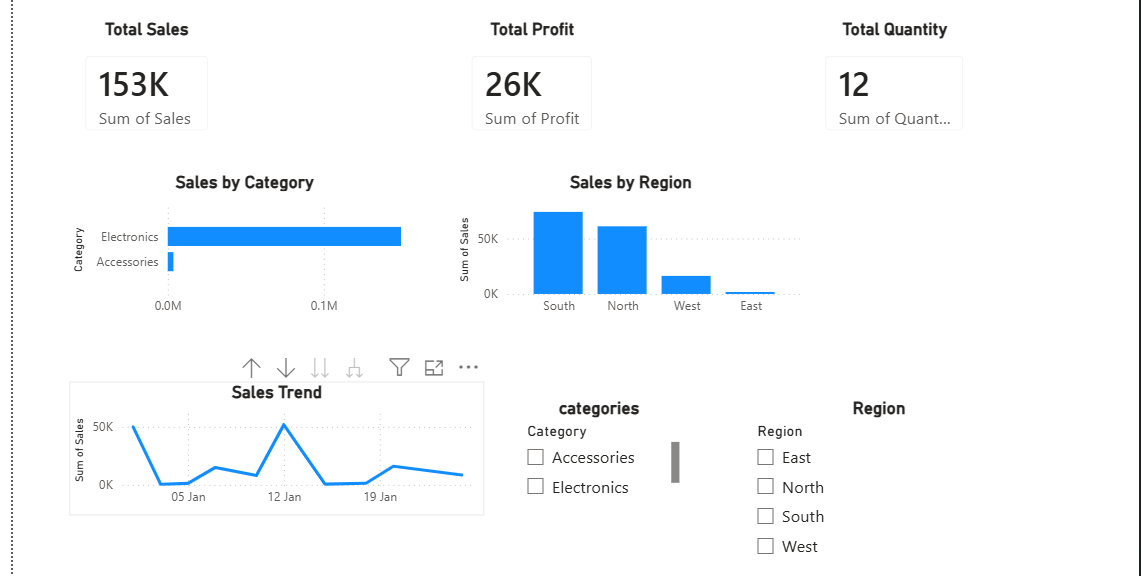

What the dashboard file says about the page in this screenshot:
{"tool":"powerbi","page":{"name":"Page 1","canvas":[1280,720],"ordinal":0},"visuals":[{"type":"cardVisual","title":"Total Sales","fields":{"Data":["Sum(sales_data.Sales)"]},"box":[54.3,38.6,154.3,127.1],"z":0},{"type":"cardVisual","title":"Total Profit","fields":{"Data":["Sum(sales_data.Profit)"]},"box":[307.9,38.6,153.6,127.1],"z":1000},{"type":"cardVisual","title":"Total Quantity","fields":{"Data":["Sum(sales_data.Quantity)"]},"box":[509.3,38.6,169.3,127.1],"z":2000},{"type":"clusteredBarChart","title":"Sales by Category","fields":{"Y":["Sum(sales_data.Sales)"],"Category":["sales_data.Category"]},"box":[54.3,187.9,345.7,150],"z":3000},{"type":"clusteredColumnChart","title":"Sales by Region","fields":{"Category":["sales_data.Region"],"Y":["Sum(sales_data.Sales)"]},"box":[432.1,187.9,345.7,150],"z":4000},{"type":"lineChart","title":"Sales Trend","fields":{"Y":["Sum(sales_data.Sales)"],"Category":["sales_data.Date.Variation.Date Hierarchy.Year","sales_data.Date.Variation.Date Hierarchy.Quarter","sales_data.Date.Variation.Date Hierarchy.Month","sales_data.Date.Variation.Date Hierarchy.Day"]},"box":[55,393.8,406.2,131.2],"z":5000},{"type":"slicer","title":"categories","fields":{"Values":["sales_data.Category"]},"box":[490,410,166.2,100],"z":5001},{"type":"slicer","title":"Region","fields":{"Values":["sales_data.Region"]},"box":[715,410,263.8,192.5],"z":5002}]}

Visuals, with their boxes on the page's 1280x720 design canvas (x1, y1, x2, y2). These are canvas units, not pixel positions in the 1141x576 screenshot, which may show the page scaled, cropped or inside an application window:
"Total Sales" cardVisual: x1=54 y1=39 x2=209 y2=166
"Total Profit" cardVisual: x1=308 y1=39 x2=462 y2=166
"Total Quantity" cardVisual: x1=509 y1=39 x2=679 y2=166
"Sales by Category" clusteredBarChart: x1=54 y1=188 x2=400 y2=338
"Sales by Region" clusteredColumnChart: x1=432 y1=188 x2=778 y2=338
"Sales Trend" lineChart: x1=55 y1=394 x2=461 y2=525
"categories" slicer: x1=490 y1=410 x2=656 y2=510
"Region" slicer: x1=715 y1=410 x2=979 y2=602
